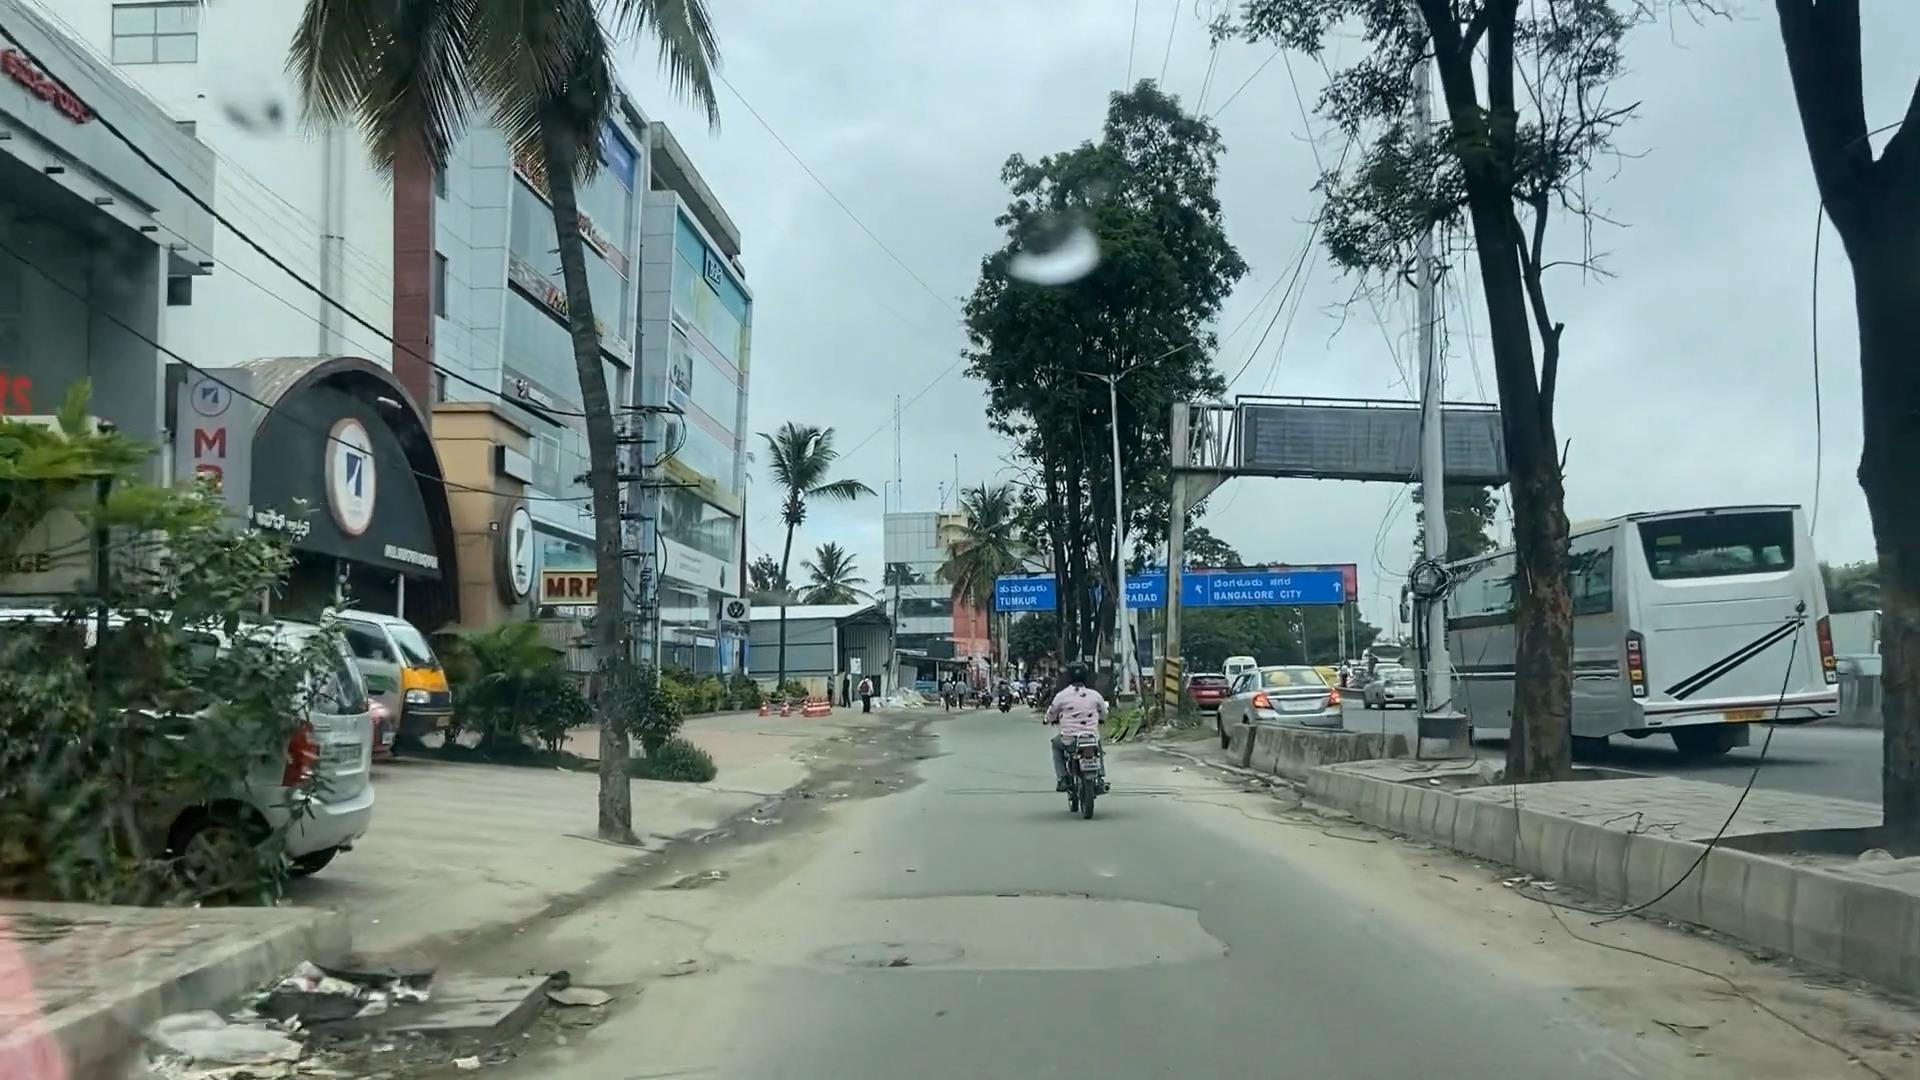LMV: (1054, 657, 1114, 811)
RoadDamages: (803, 864, 1226, 998)
